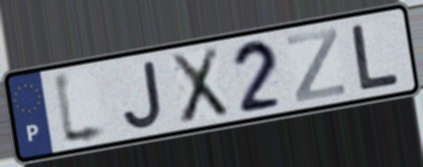2: (231, 35, 289, 120)
J: (120, 58, 166, 131)
L: (50, 67, 113, 151), (348, 21, 403, 93)
X: (167, 44, 232, 128)
Z: (285, 25, 348, 105)
